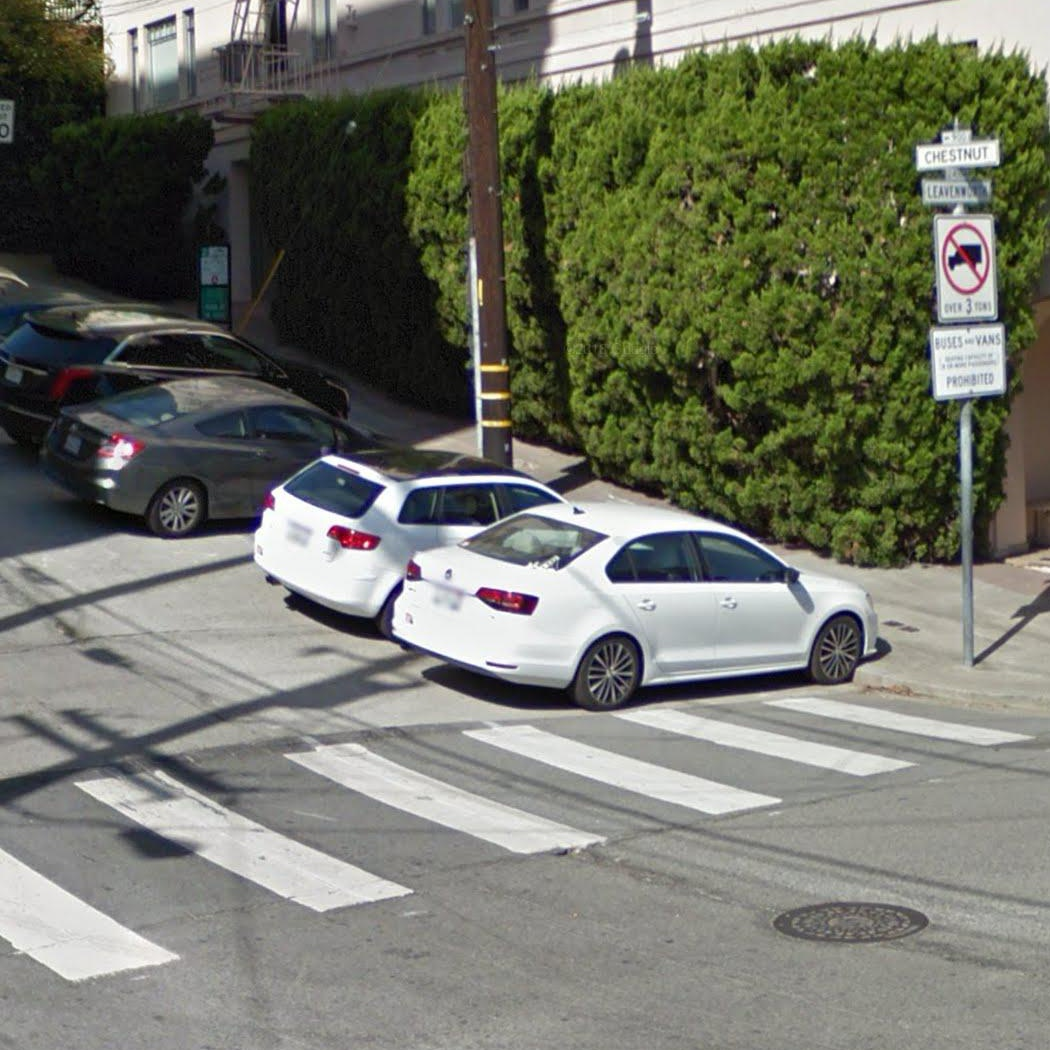2 Hour Parking: (199, 247, 230, 288)
